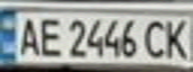2: (63, 15, 87, 58)
4: (84, 16, 106, 58), (103, 16, 124, 58)
6: (118, 16, 142, 58)
A: (12, 14, 42, 57)
C: (139, 16, 169, 60)
E: (33, 14, 63, 58)
K: (160, 16, 193, 60)
